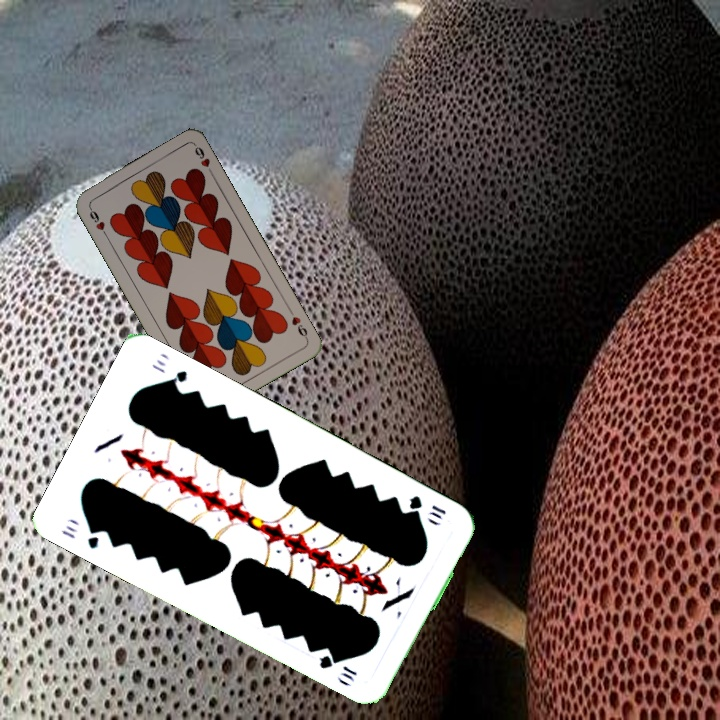G10: (57, 521, 103, 552), (405, 491, 449, 523)
H9: (285, 305, 310, 342), (85, 203, 110, 240)
